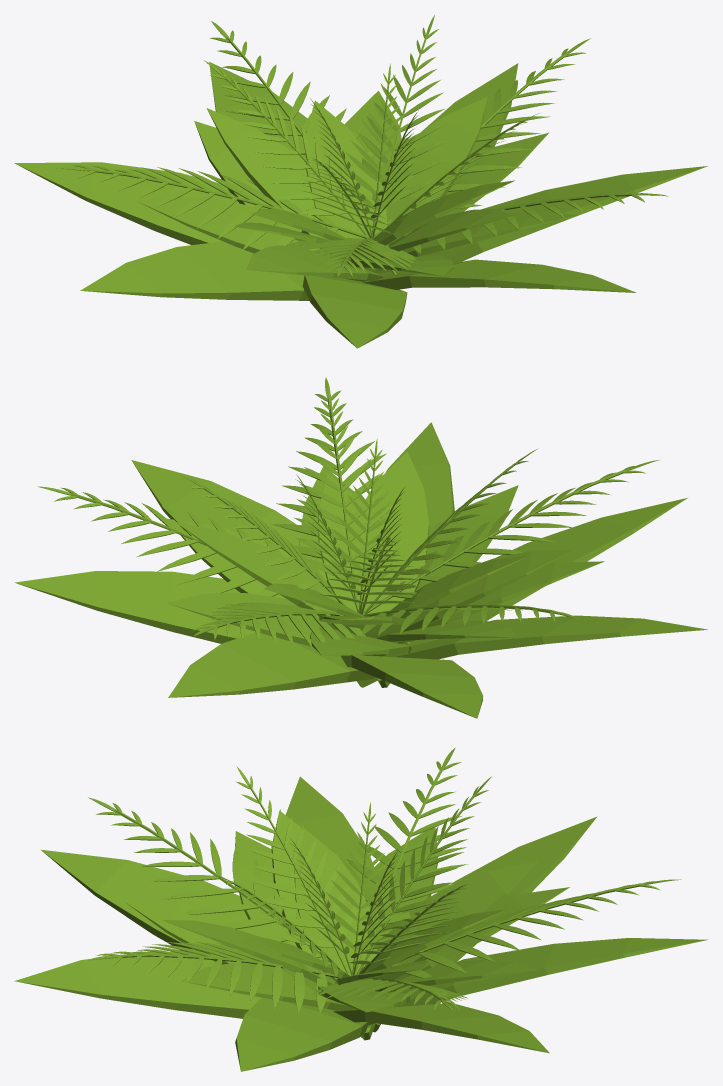
File: Farn hellgrün 3.fbx
3 views of the same model, one above another, from view 1: azimuth 30°, elevation 25°; view 2: azimuth 150°, elevation 25°; view 3: azimuth 270°, elevation 25° (orthographic).
Parts seen in each view (by area): view 1: Farn_hellgrün_3; view 2: Farn_hellgrün_3; view 3: Farn_hellgrün_3.
Boxes of the visible parts, x1,y1,x2,y2 form: Farn_hellgrün_3: (14, 15, 707, 348); Farn_hellgrün_3: (15, 377, 707, 718); Farn_hellgrün_3: (14, 747, 708, 1071).
Size of the model in its own units: 562 by 190 by 558.
